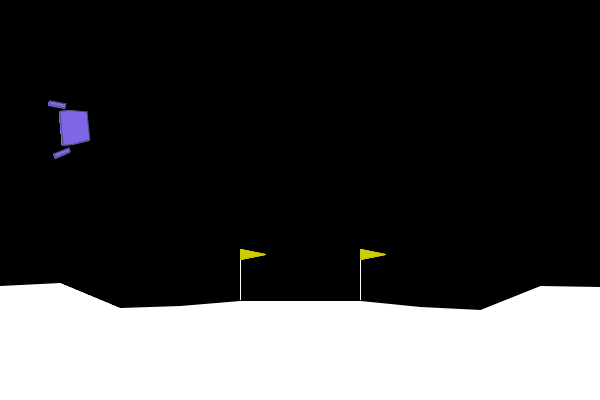lander: (47, 96, 93, 160)
